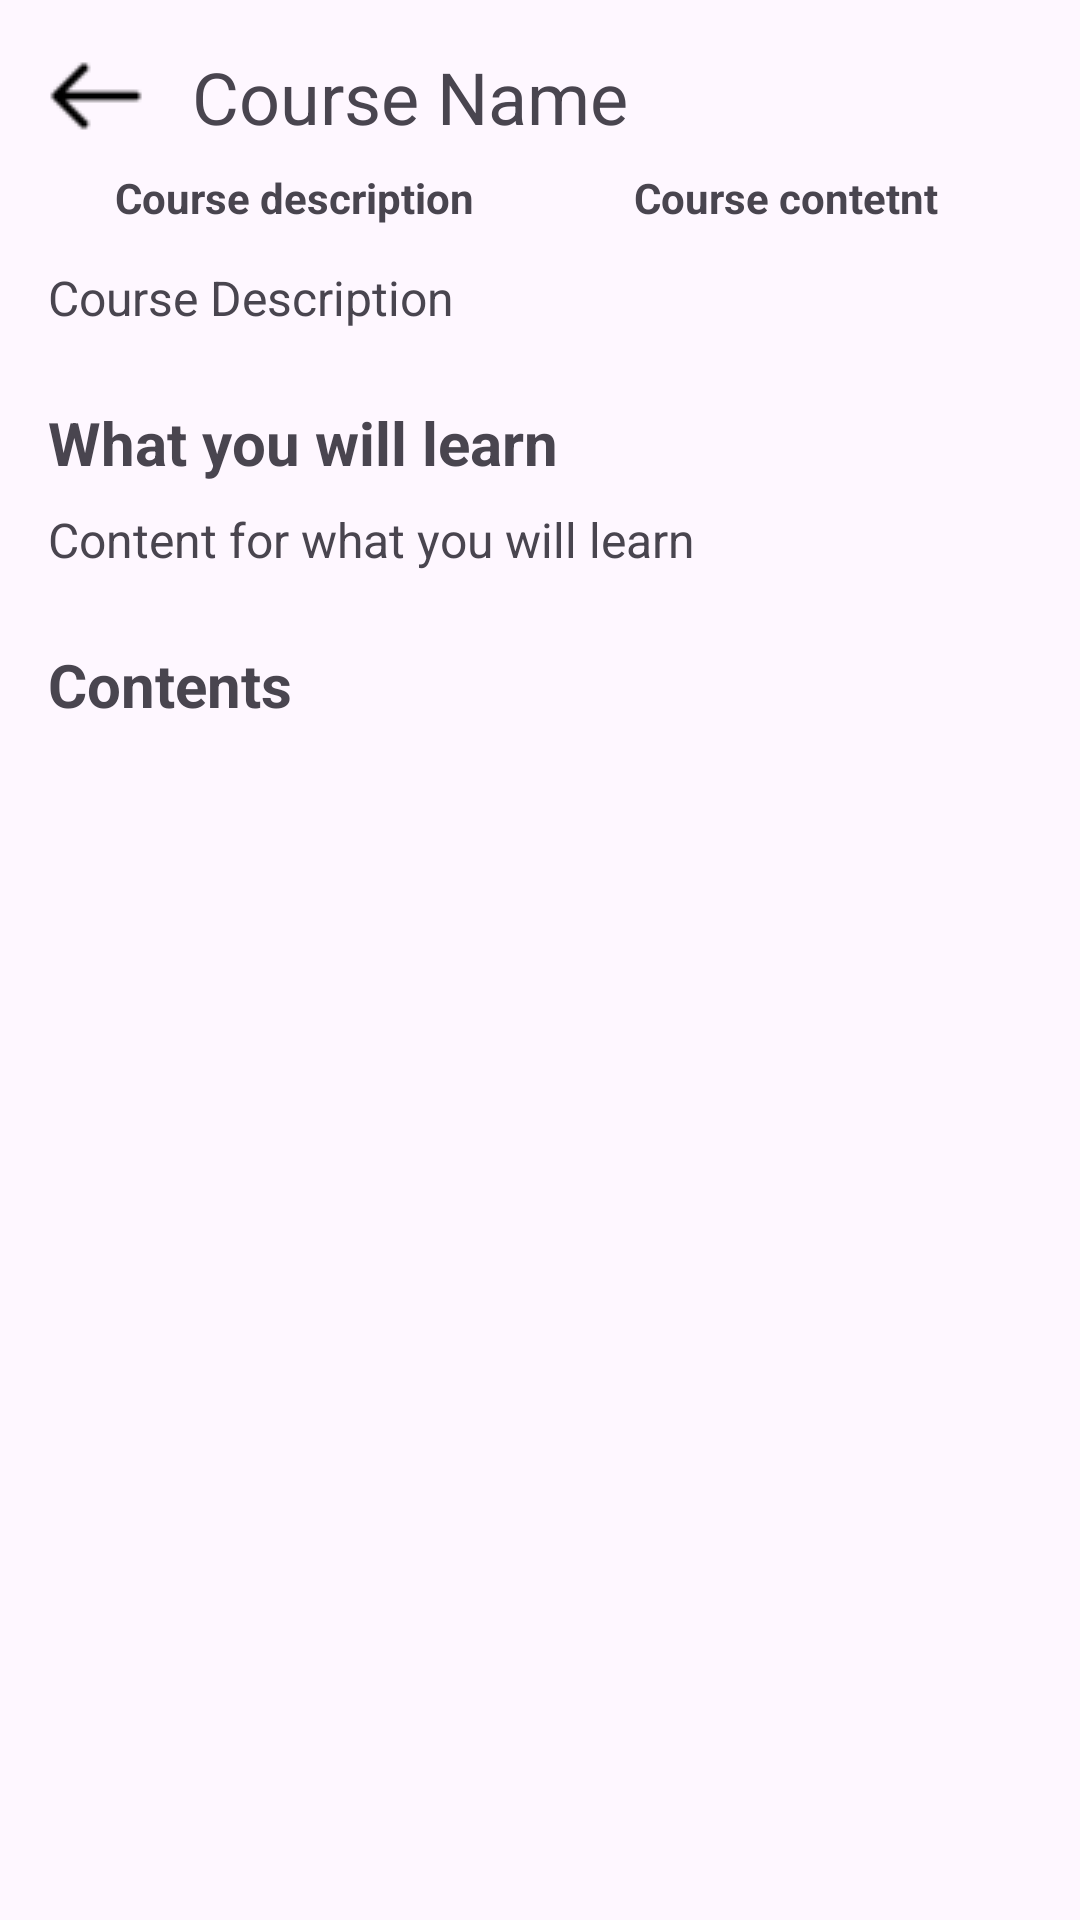

Where to tap for icons on this 1080px×1920px app screen, as (x=x, y=y):
back: (x=96, y=96)
